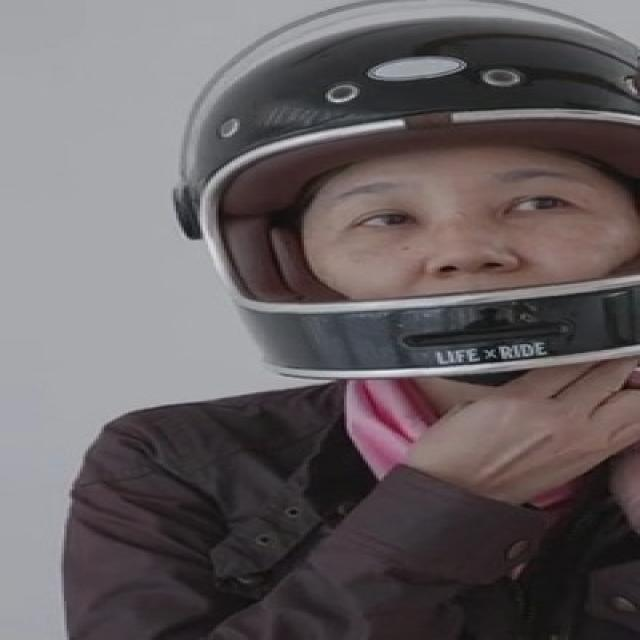Helmet_Wearer: (162, 0, 640, 411)
Person: (75, 0, 640, 640)
